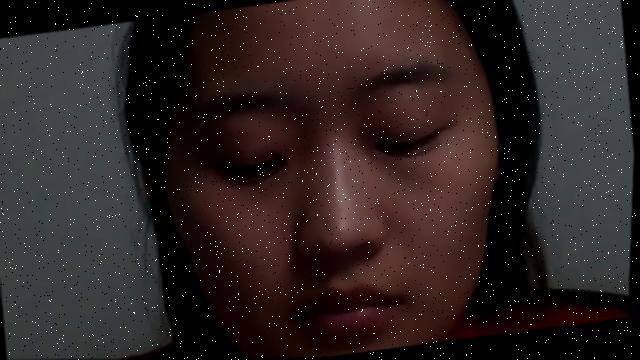eye: (386, 134, 420, 159), (241, 155, 271, 180)
iris: (378, 132, 440, 157), (223, 158, 286, 179)
